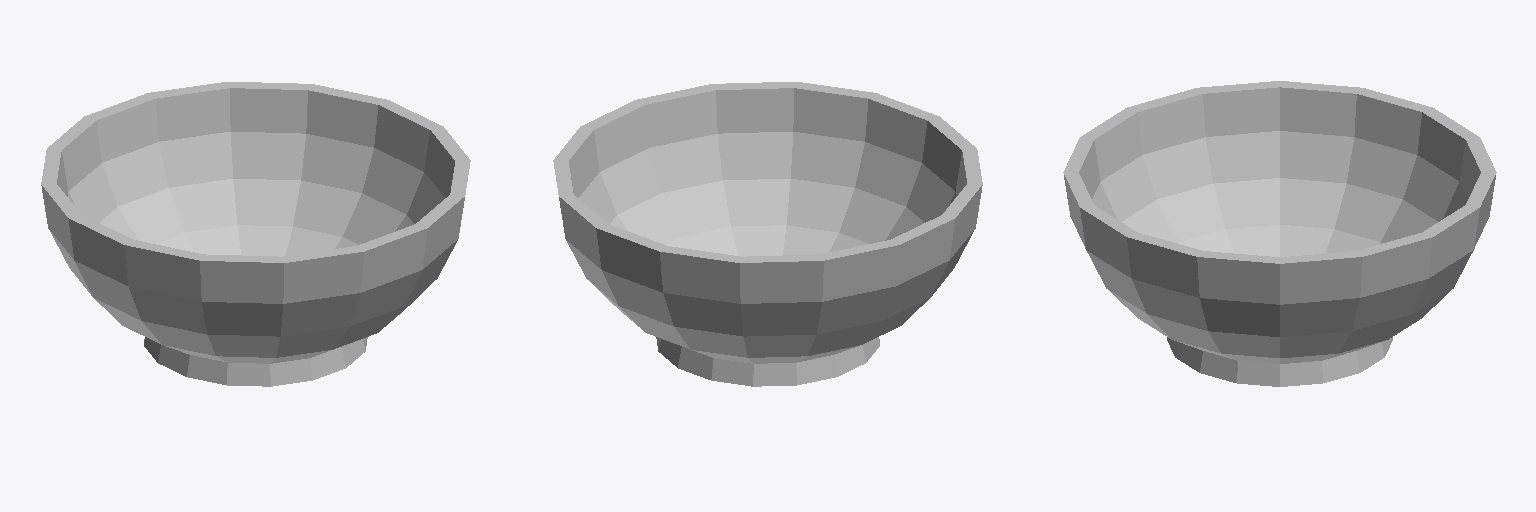
Rendered from ChineseBowl.obj.
The picture shows the model from 3 angles: view 1: azimuth 30°, elevation 25°; view 2: azimuth 150°, elevation 25°; view 3: azimuth 270°, elevation 25°; orthographic projection.
Visible parts, largest first — view 1: pSphere1; view 2: pSphere1; view 3: pSphere1.
Boxes of the visible parts, box(x1,y1,x2,y2) form: pSphere1: box(41, 82, 470, 386); pSphere1: box(553, 82, 982, 386); pSphere1: box(1063, 81, 1496, 386).
Bounding box in the file's own units: 2.71 × 1.16 × 2.71.